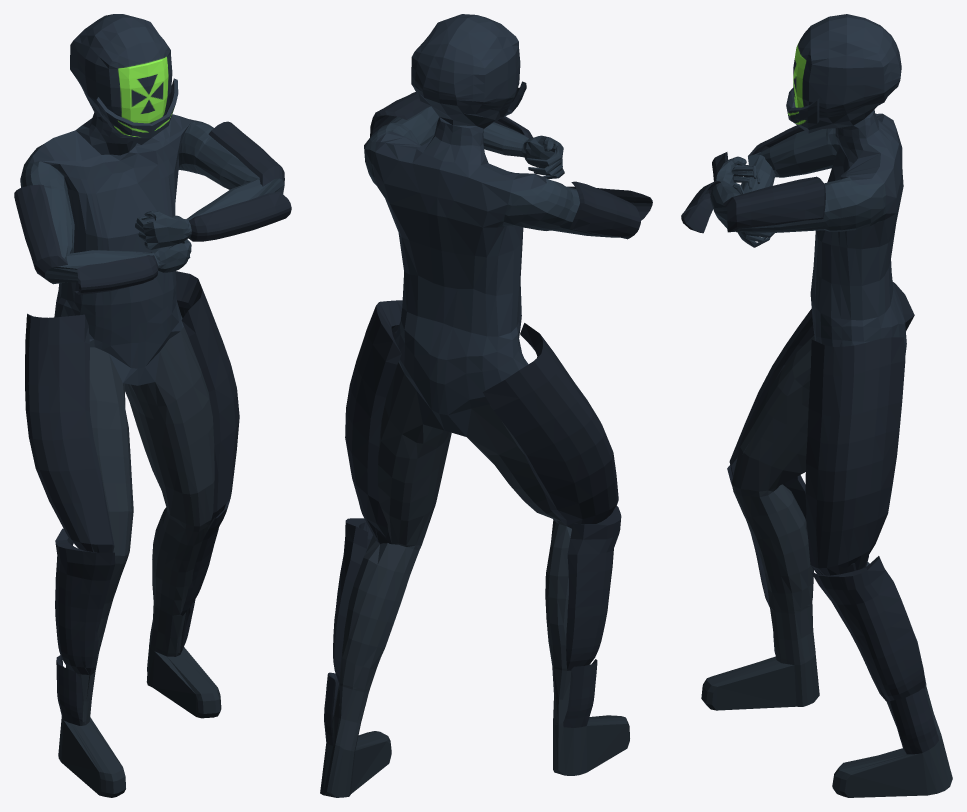
The model's file is Bastion_WB_000012.obj.
3 renders of one model, left to right at view 1: azimuth 30°, elevation 25°; view 2: azimuth 150°, elevation 25°; view 3: azimuth 270°, elevation 25°, orthographic. The views are drawn at different scales.
Visible parts, largest first — view 1: Cube.002; view 2: Cube.002; view 3: Cube.002.
Part boxes in pixels (x1,y1,x2,y2): Cube.002: [14, 14, 291, 797]; Cube.002: [320, 14, 652, 797]; Cube.002: [681, 14, 952, 797].
Size of the model in its own units: 1.31 by 3.78 by 1.27.
